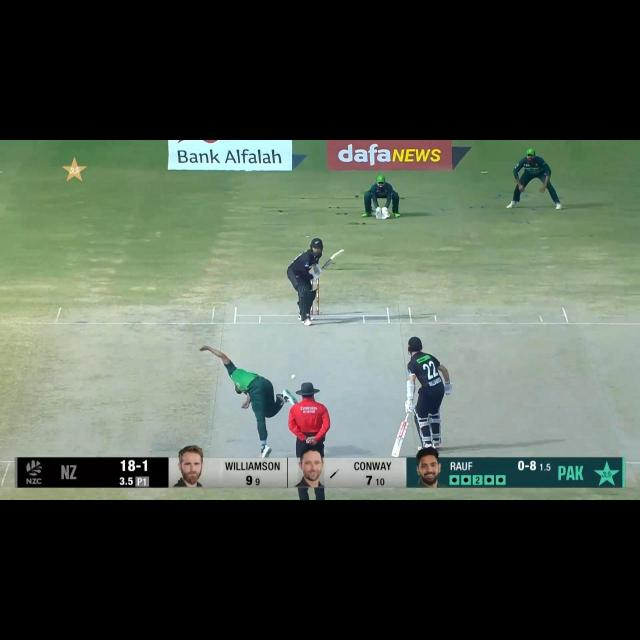bat: (392, 422, 408, 458), (319, 248, 345, 270)
toe: (337, 247, 345, 255), (392, 449, 399, 458)
